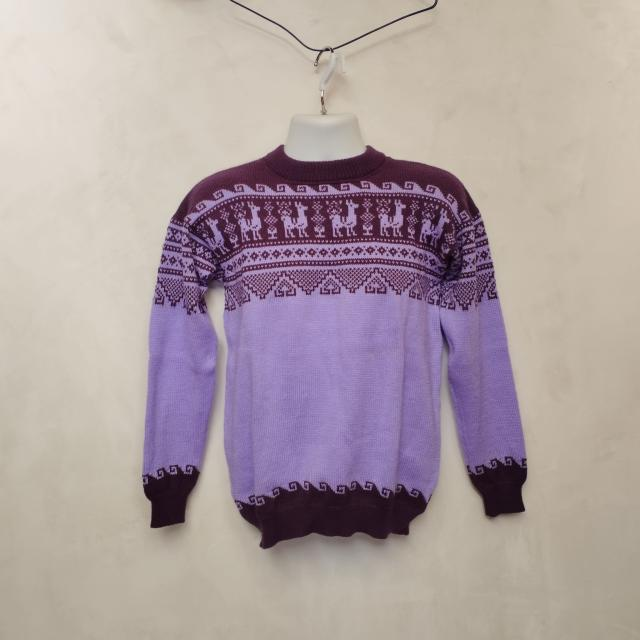Chompa: (141, 114, 529, 549)
